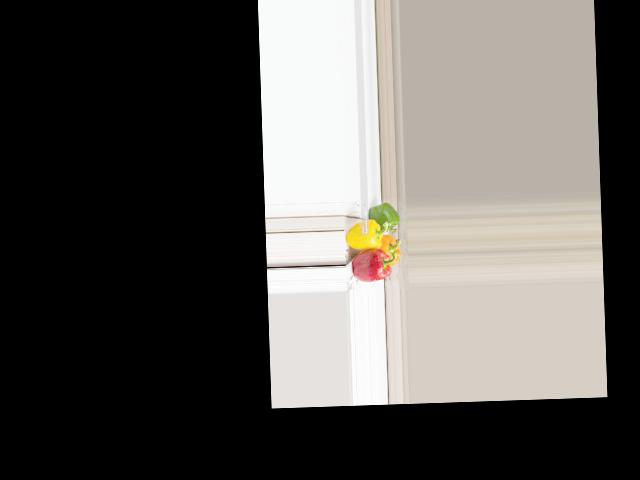bell_pepper: (378, 233, 402, 266)
